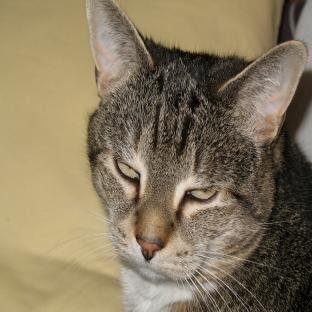Animal: (86, 0, 312, 312)
